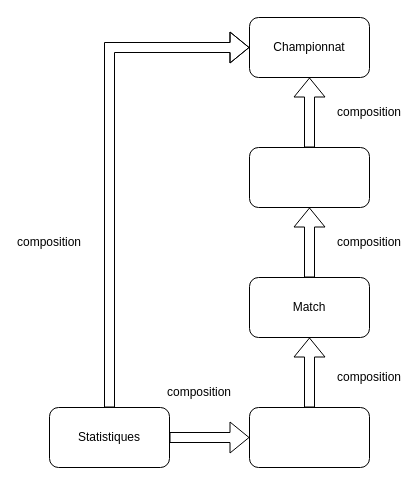
Some shapes in this 418 by 485 pixel diagram are drawn without their labels. The shapes that lost their labels are listed below. From the top down, each one's centre as x and y in pixels, then its label:
pixel 309 177: Tour
pixel 309 437: Club
